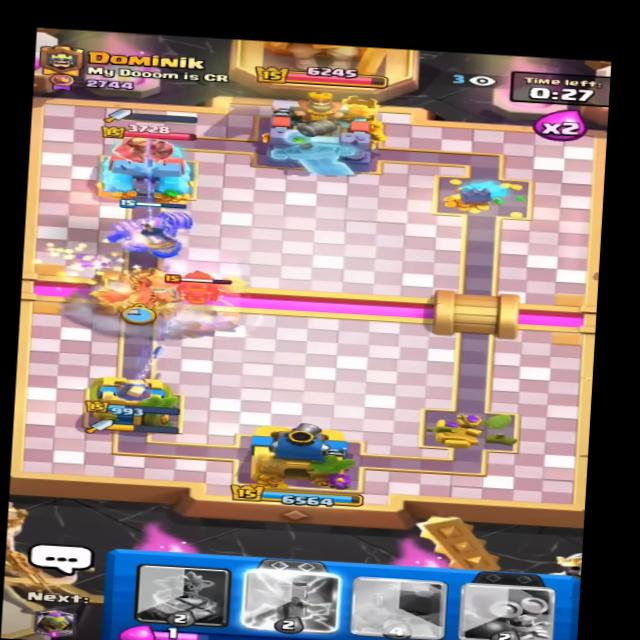Lavahound: (161, 264, 243, 313)
